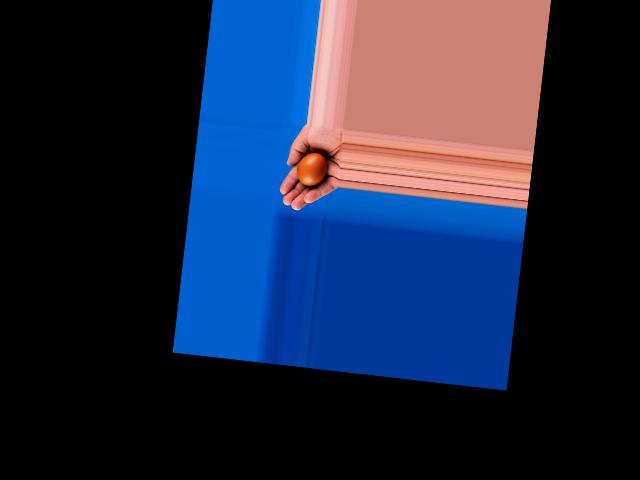egg: (295, 151, 327, 188)
